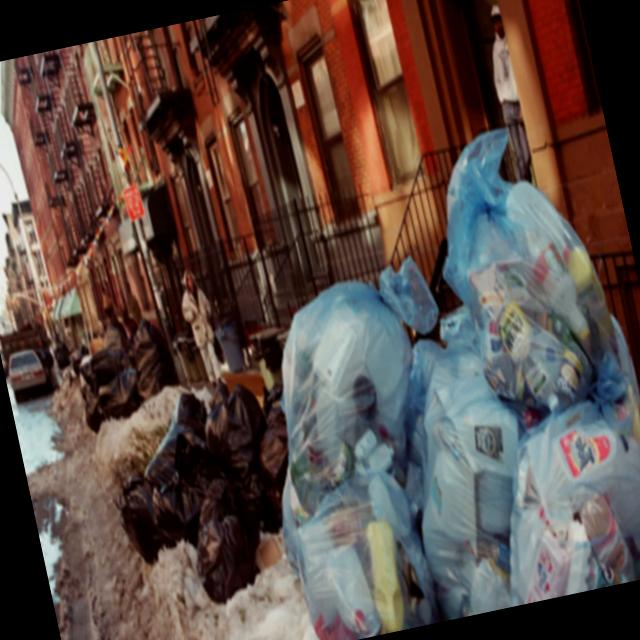garbage: (60, 108, 640, 640)
